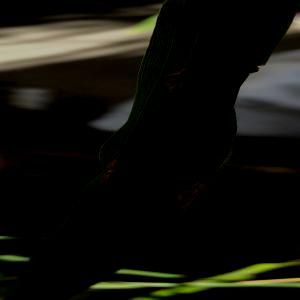1 RiceBlast: (141, 41, 208, 104), (168, 163, 224, 216), (91, 137, 137, 198)
